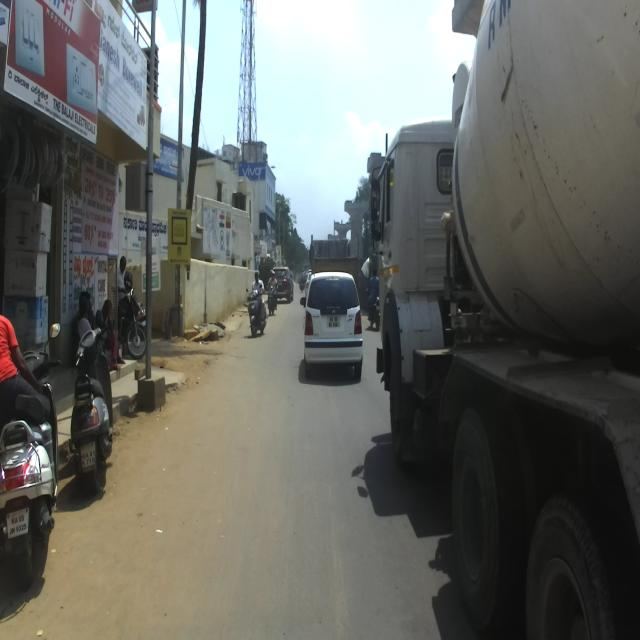car ahead at: (300, 267, 368, 381)
motorcycle ahead at: (0, 416, 58, 578), (70, 316, 118, 492), (245, 265, 268, 343)
truck ahead at: (373, 0, 640, 640)
